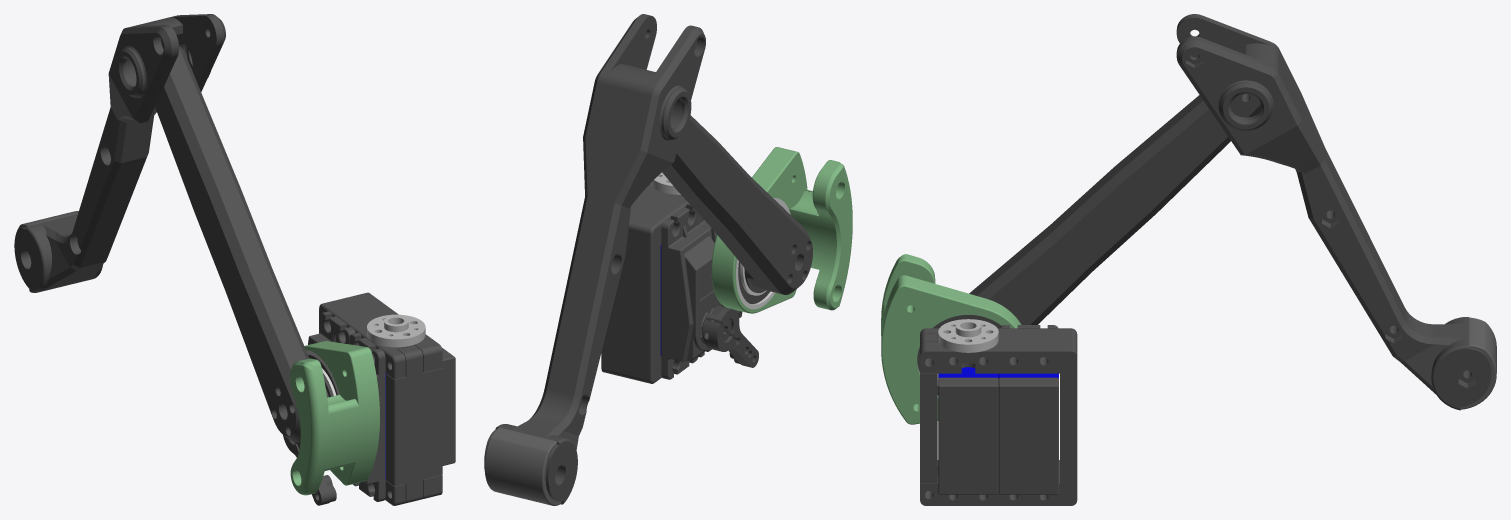
File: Yertle B Leg.fbx
3 renders of one model, left to right at view 1: azimuth 30°, elevation 25°; view 2: azimuth 150°, elevation 25°; view 3: azimuth 270°, elevation 25°, orthographic. The views are drawn at different scales.
Visible parts, largest first — view 1: Forarm, Upper Arm, Shoulder, Shoulder Body, Elbow Servo Horn; view 2: Forarm, Shoulder, Upper Arm, Shoulder Body, Elbow Servo Horn; view 3: Shoulder, Forarm, Upper Arm, Shoulder Body.
Part boxes in pixels (bbox=[...]): Forarm: bbox=[14, 14, 225, 292]; Upper Arm: bbox=[155, 46, 339, 442]; Shoulder: bbox=[308, 292, 455, 505]; Shoulder Body: bbox=[289, 341, 379, 495]; Elbow Servo Horn: bbox=[283, 435, 336, 505]; Forarm: bbox=[484, 14, 705, 505]; Shoulder: bbox=[601, 172, 742, 383]; Upper Arm: bbox=[662, 115, 812, 309]; Shoulder Body: bbox=[711, 147, 852, 313]; Elbow Servo Horn: bbox=[702, 306, 758, 367]; Shoulder: bbox=[920, 319, 1077, 505]; Forarm: bbox=[1176, 14, 1496, 410]; Upper Arm: bbox=[917, 93, 1260, 396]; Shoulder Body: bbox=[881, 254, 1021, 424].
Size of the model in its own units: 7.04 by 15.49 by 20.39.
